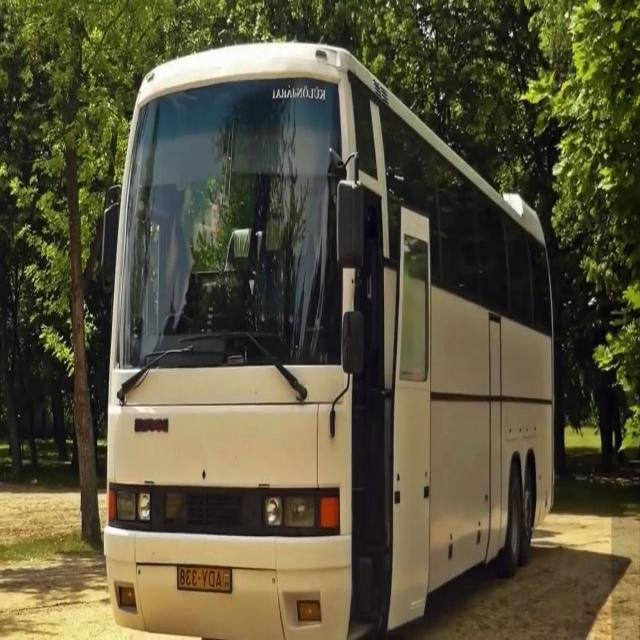bus: (48, 34, 580, 637)
